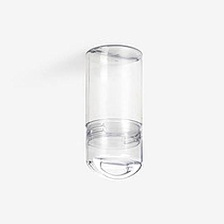plastic_box: (79, 36, 148, 186)
